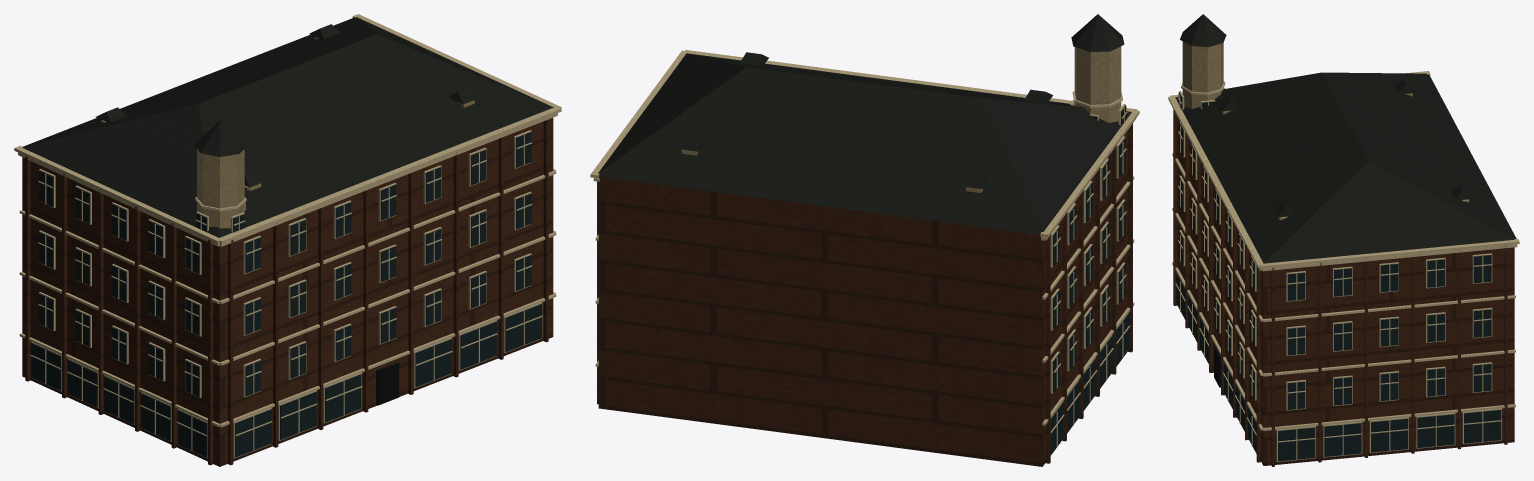
3 renders of one model, left to right at view 1: azimuth 30°, elevation 25°; view 2: azimuth 150°, elevation 25°; view 3: azimuth 270°, elevation 25°, orthographic. The views are drawn at different scales.
Parts seen in each view (by area): view 1: lampe-hoogstraat-4, lampe-hoogstraat-3, lampe-hoogstraat-2, lampe-hoogstraat-1, lampe-hoogstraat-0, lampe-hoogstraat-5; view 2: lampe-hoogstraat-4, lampe-hoogstraat-3, lampe-hoogstraat-1, lampe-hoogstraat-2, lampe-hoogstraat-0; view 3: lampe-hoogstraat-3, lampe-hoogstraat-4, lampe-hoogstraat-2, lampe-hoogstraat-1, lampe-hoogstraat-0.
Boxes of the visible parts, left/top/right/bottom form: lampe-hoogstraat-4: left=22, top=118, right=553, bottom=466; lampe-hoogstraat-3: left=22, top=17, right=553, bottom=237; lampe-hoogstraat-2: left=31, top=122, right=541, bottom=457; lampe-hoogstraat-1: left=14, top=14, right=561, bottom=458; lampe-hoogstraat-0: left=101, top=37, right=474, bottom=228; lampe-hoogstraat-5: left=376, top=362, right=399, bottom=405; lampe-hoogstraat-4: left=597, top=123, right=1132, bottom=466; lampe-hoogstraat-3: left=598, top=14, right=1131, bottom=234; lampe-hoogstraat-1: left=590, top=50, right=1139, bottom=446; lampe-hoogstraat-2: left=681, top=102, right=1129, bottom=454; lampe-hoogstraat-0: left=682, top=46, right=1121, bottom=192; lampe-hoogstraat-3: left=1175, top=14, right=1516, bottom=263; lampe-hoogstraat-4: left=1173, top=109, right=1514, bottom=466; lampe-hoogstraat-2: left=1176, top=92, right=1501, bottom=461; lampe-hoogstraat-1: left=1168, top=71, right=1519, bottom=461; lampe-hoogstraat-0: left=1182, top=41, right=1469, bottom=220.
Size of the model in its own units: 39.48 by 27.7 by 30.04.
Materials: 6 (6 with a texture image).
